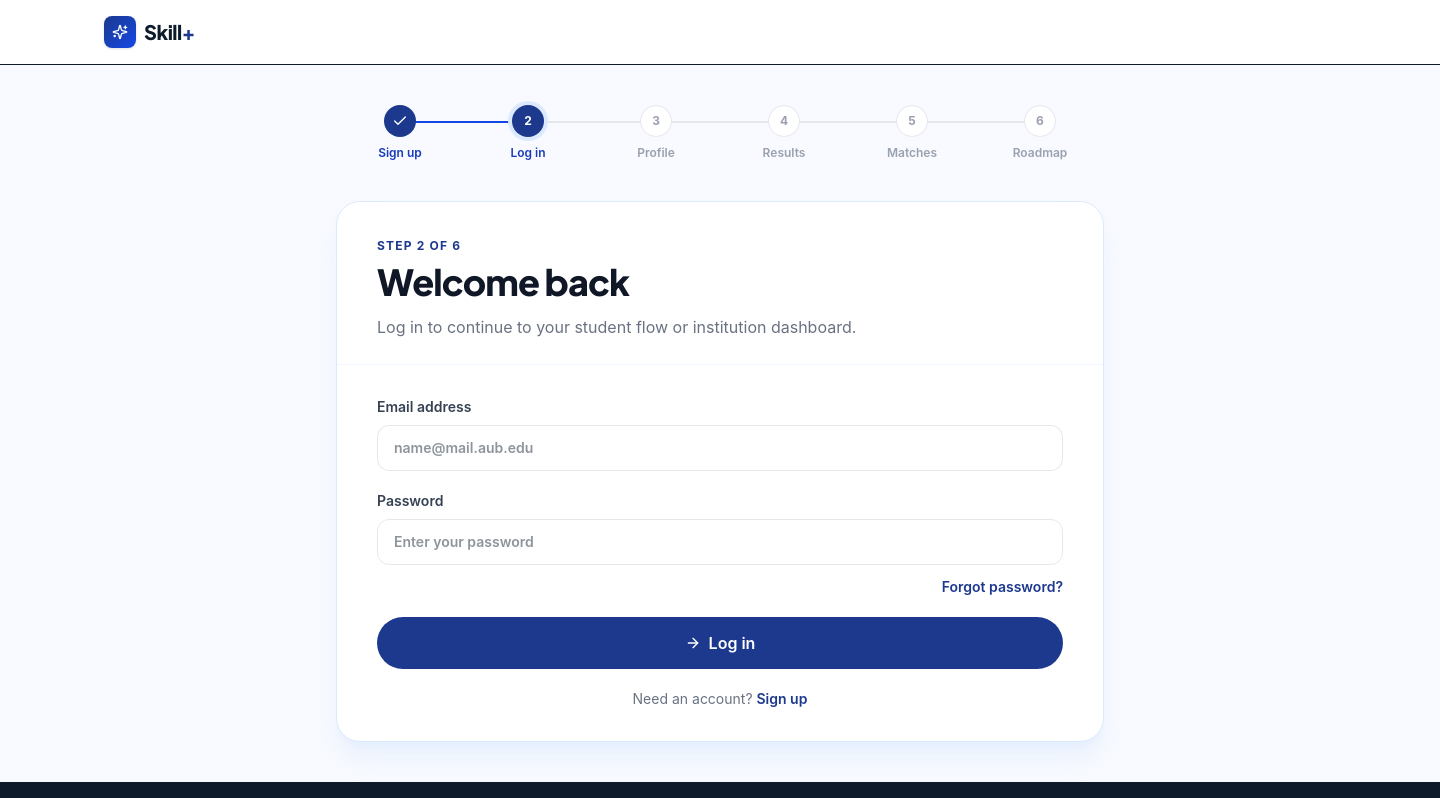
Test: Member 5 complete student flow › routes a returning student with a saved profile to the dashboard
The width and height of the screenshot is (1440, 798).
Type "alex.morgan@mail.aub.edu" into the field labelled "Email address" at (720, 448), box [377,425,1063,471]
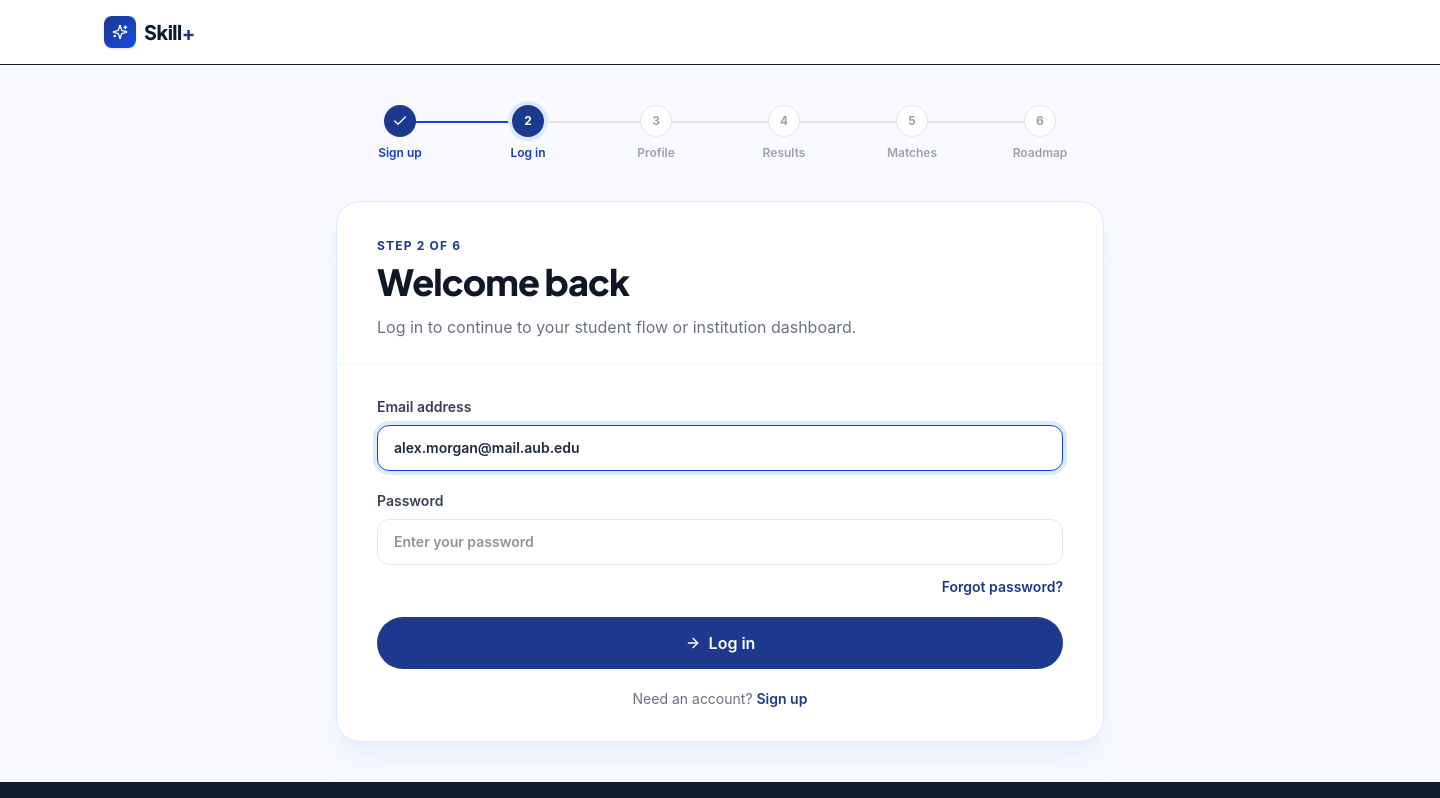
Type "password123" into the password field labelled "Password" at (720, 542), box [377,519,1063,565]
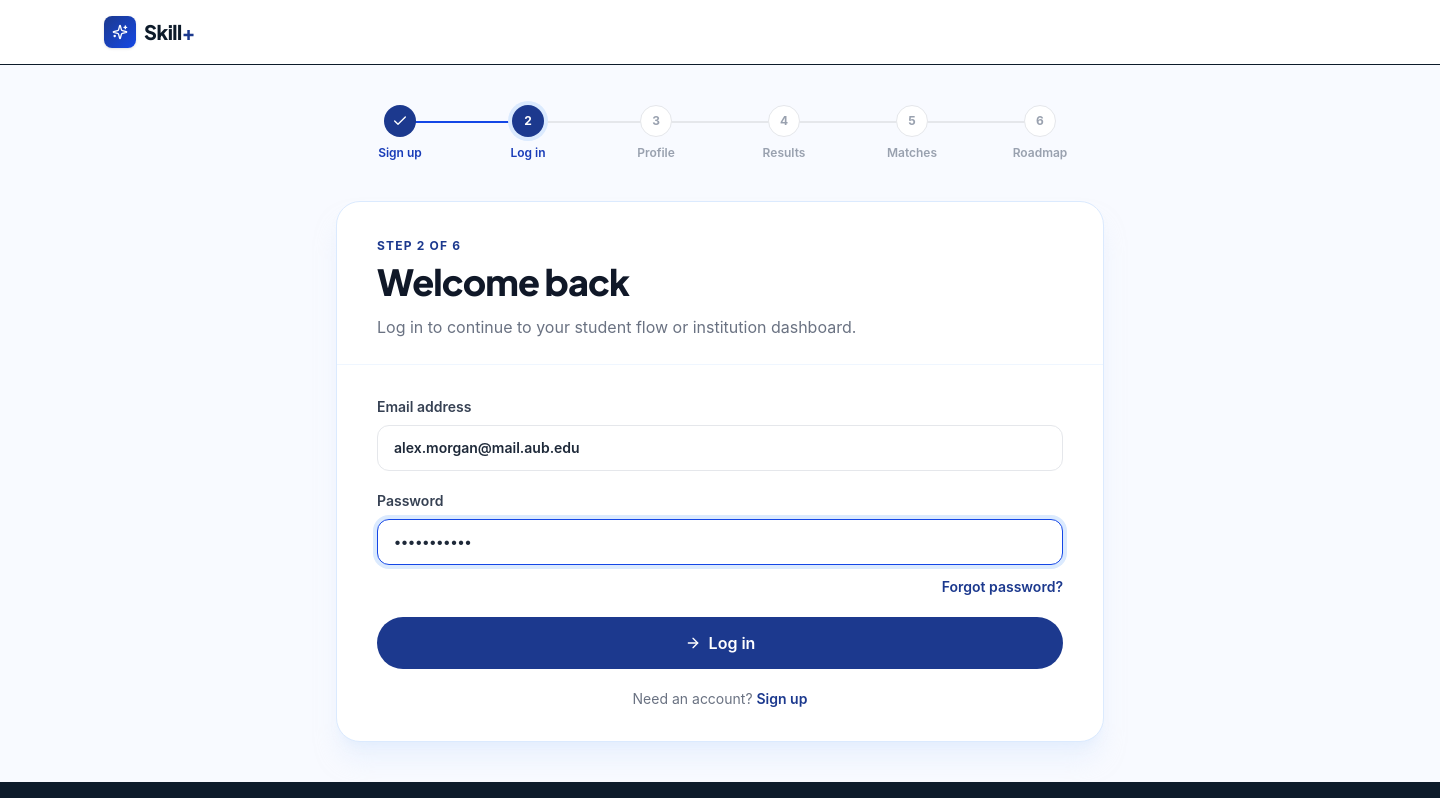
Click the button "Log in" at (720, 643), box [377,617,1063,669]
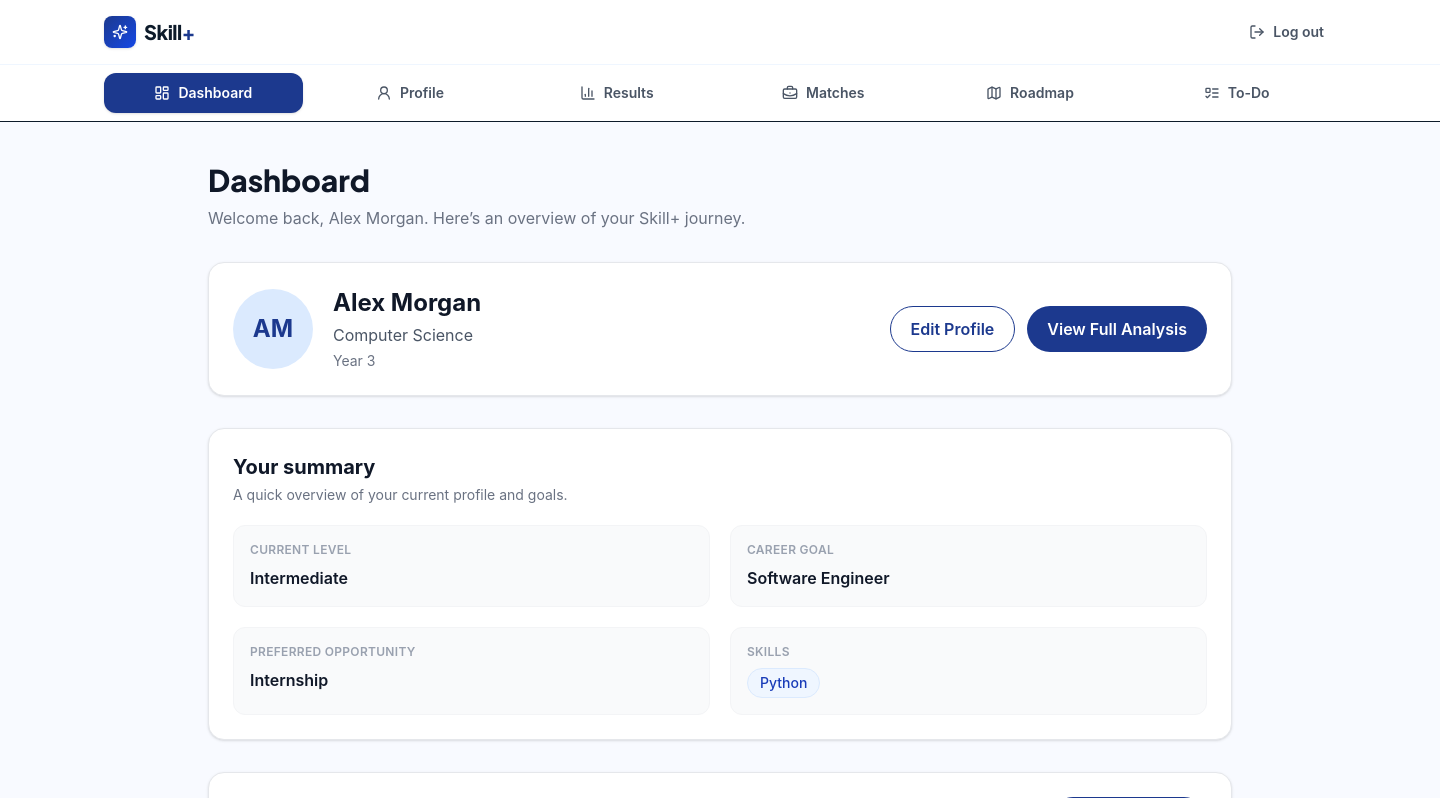
Check: the heading "Dashboard" is shown, box [208,161,370,199]
